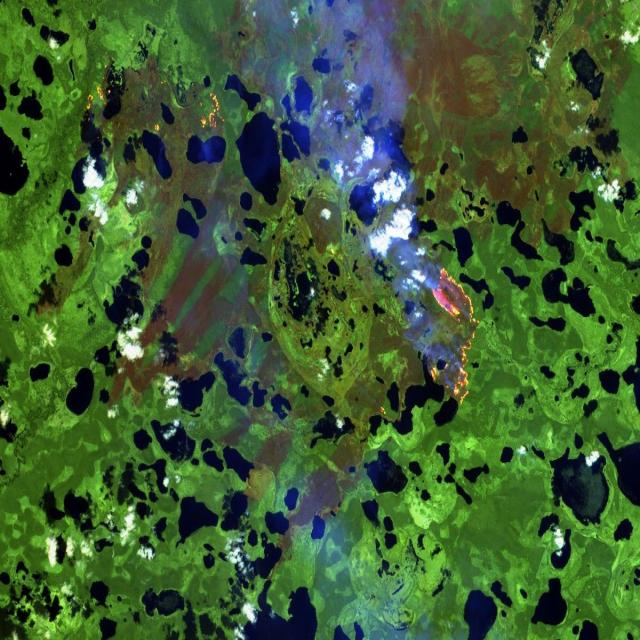fire: (420, 263, 485, 419), (195, 87, 228, 141)
